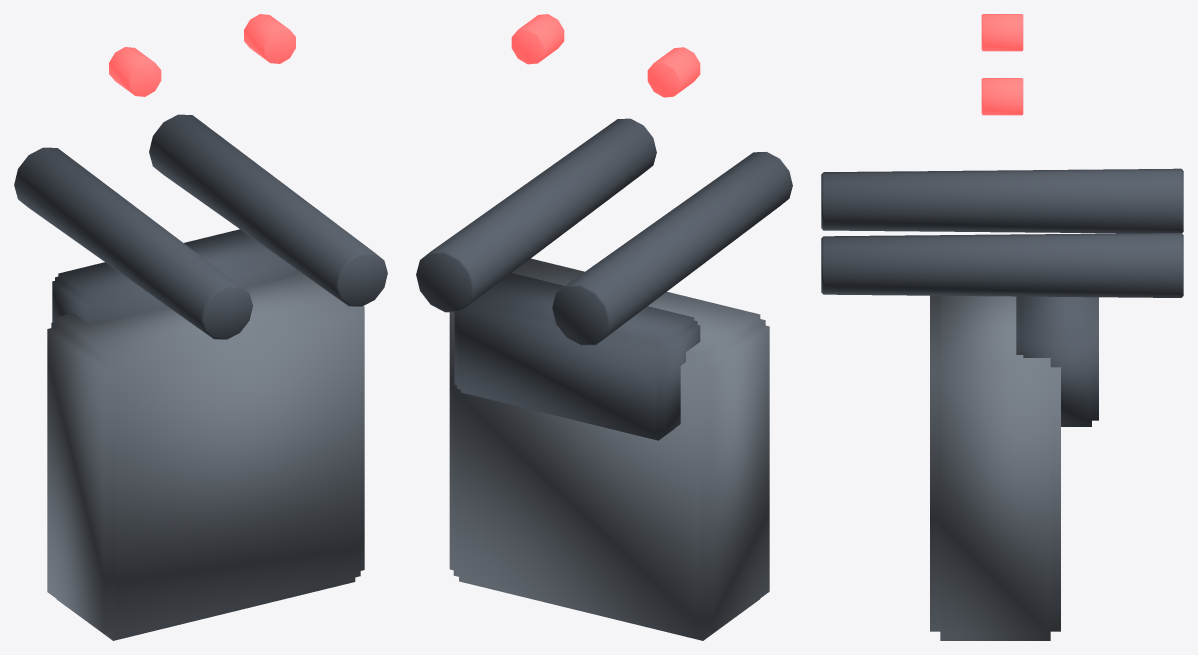
The model's file is boss_turret.glb.
The picture shows the model from 3 angles, left to right: view 1: azimuth 30°, elevation 25°; view 2: azimuth 150°, elevation 25°; view 3: azimuth 270°, elevation 25°; orthographic projection. The views are drawn at different scales.
Parts seen in each view (by area): view 1: boss_turret; view 2: boss_turret; view 3: boss_turret.
Boxes of the visible parts, x1,y1,x2,y2 form: boss_turret: (14,14,387,640); boss_turret: (416,14,792,640); boss_turret: (821,14,1183,640).
Size of the model in its own units: 0.85 by 1.71 by 1.05.
